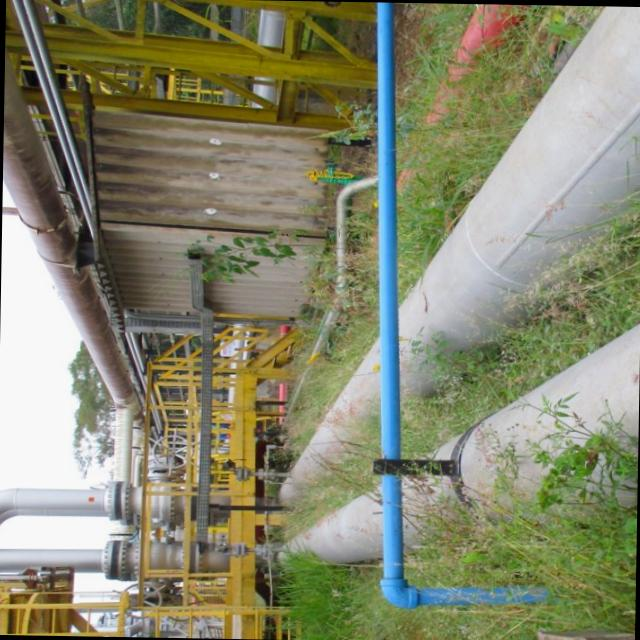gas: (454, 3, 640, 314), (2, 67, 138, 402), (459, 309, 640, 556), (358, 1, 423, 604), (297, 333, 374, 484), (278, 477, 372, 583), (0, 539, 153, 576), (8, 480, 151, 516), (401, 577, 551, 605)
